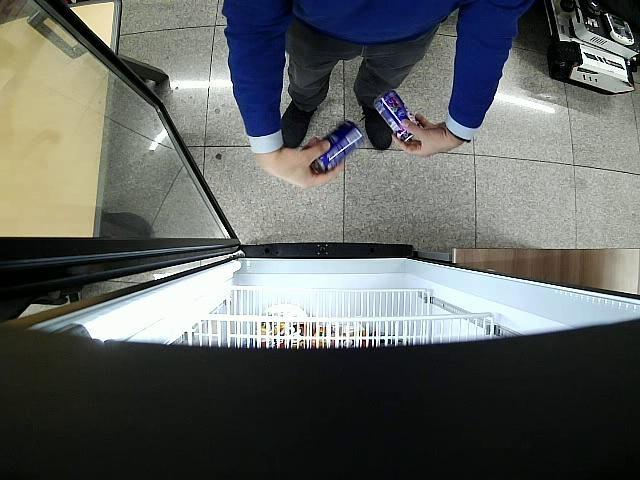14_welchsGrape: (311, 121, 366, 174), (373, 90, 417, 142)
